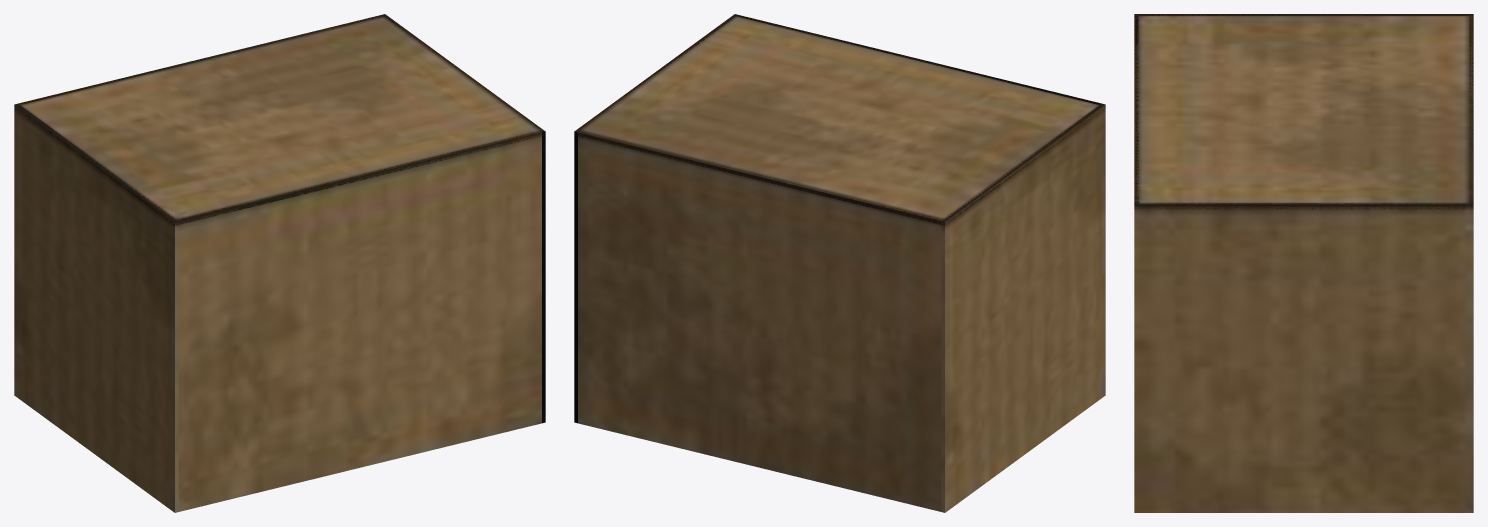
The model's file is box_closed_lod1_web.glb.
The picture shows the model from 3 angles, left to right: view 1: azimuth 30°, elevation 25°; view 2: azimuth 150°, elevation 25°; view 3: azimuth 270°, elevation 25°; orthographic projection. The views are drawn at different scales.
Visible parts, largest first — view 1: BoxClosed_Body; view 2: BoxClosed_Body; view 3: BoxClosed_Body.
Boxes of the visible parts, x1,y1,x2,y2 form: BoxClosed_Body: (14,14,545,512); BoxClosed_Body: (574,14,1105,512); BoxClosed_Body: (1134,14,1473,512).
Size of the model in its own units: 0.4 by 0.3 by 0.3.
1 material, 1 textured.
